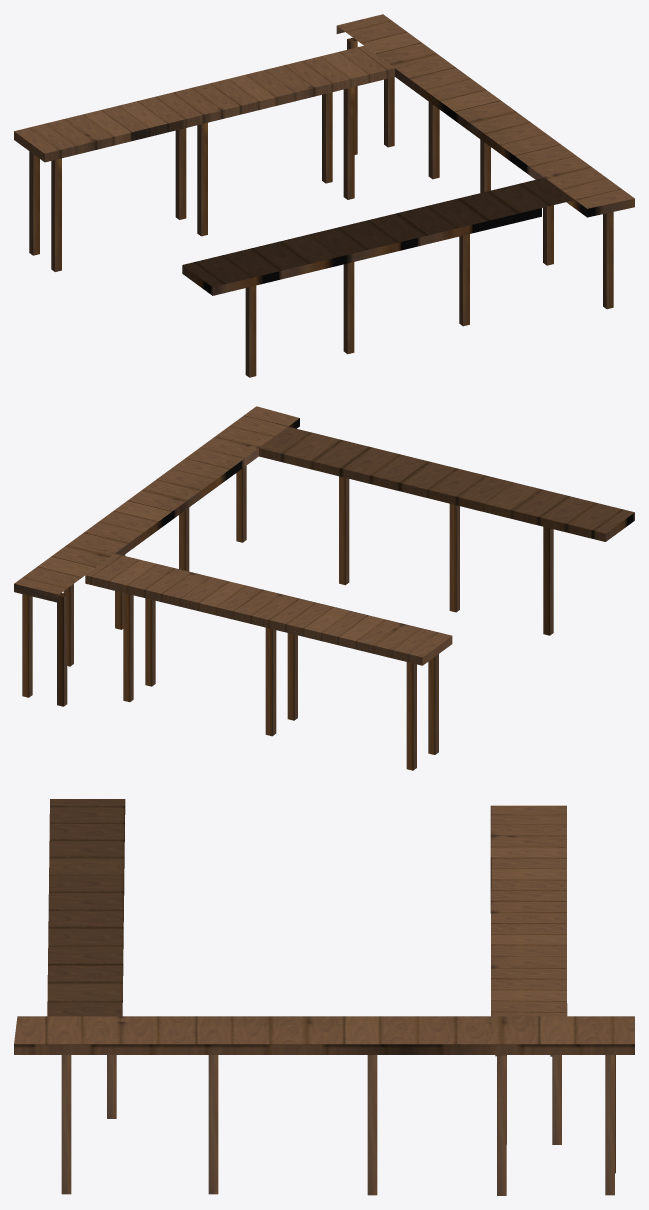
The model's file is bridge.FBX.
The picture shows the model from 3 angles, top to bottom: view 1: azimuth 30°, elevation 25°; view 2: azimuth 150°, elevation 25°; view 3: azimuth 270°, elevation 25°; orthographic projection. The views are drawn at different scales.
Parts seen in each view (by area): view 1: Rectangle010; view 2: Rectangle010; view 3: Rectangle010.
Part boxes in pixels (<box>): Rectangle010: <box>14,14,634,377</box>; Rectangle010: <box>14,406,634,770</box>; Rectangle010: <box>14,799,634,1195</box>.
Size of the model in its own units: 160 by 45.98 by 171.
